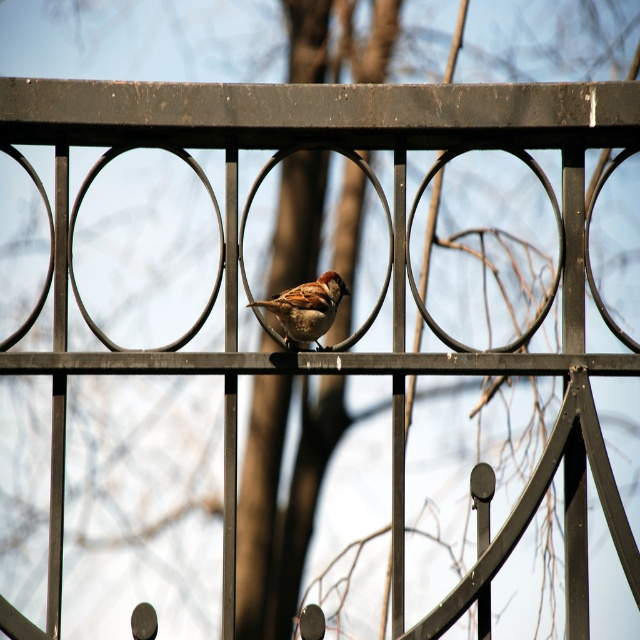Sparrow: (245, 264, 357, 350)
